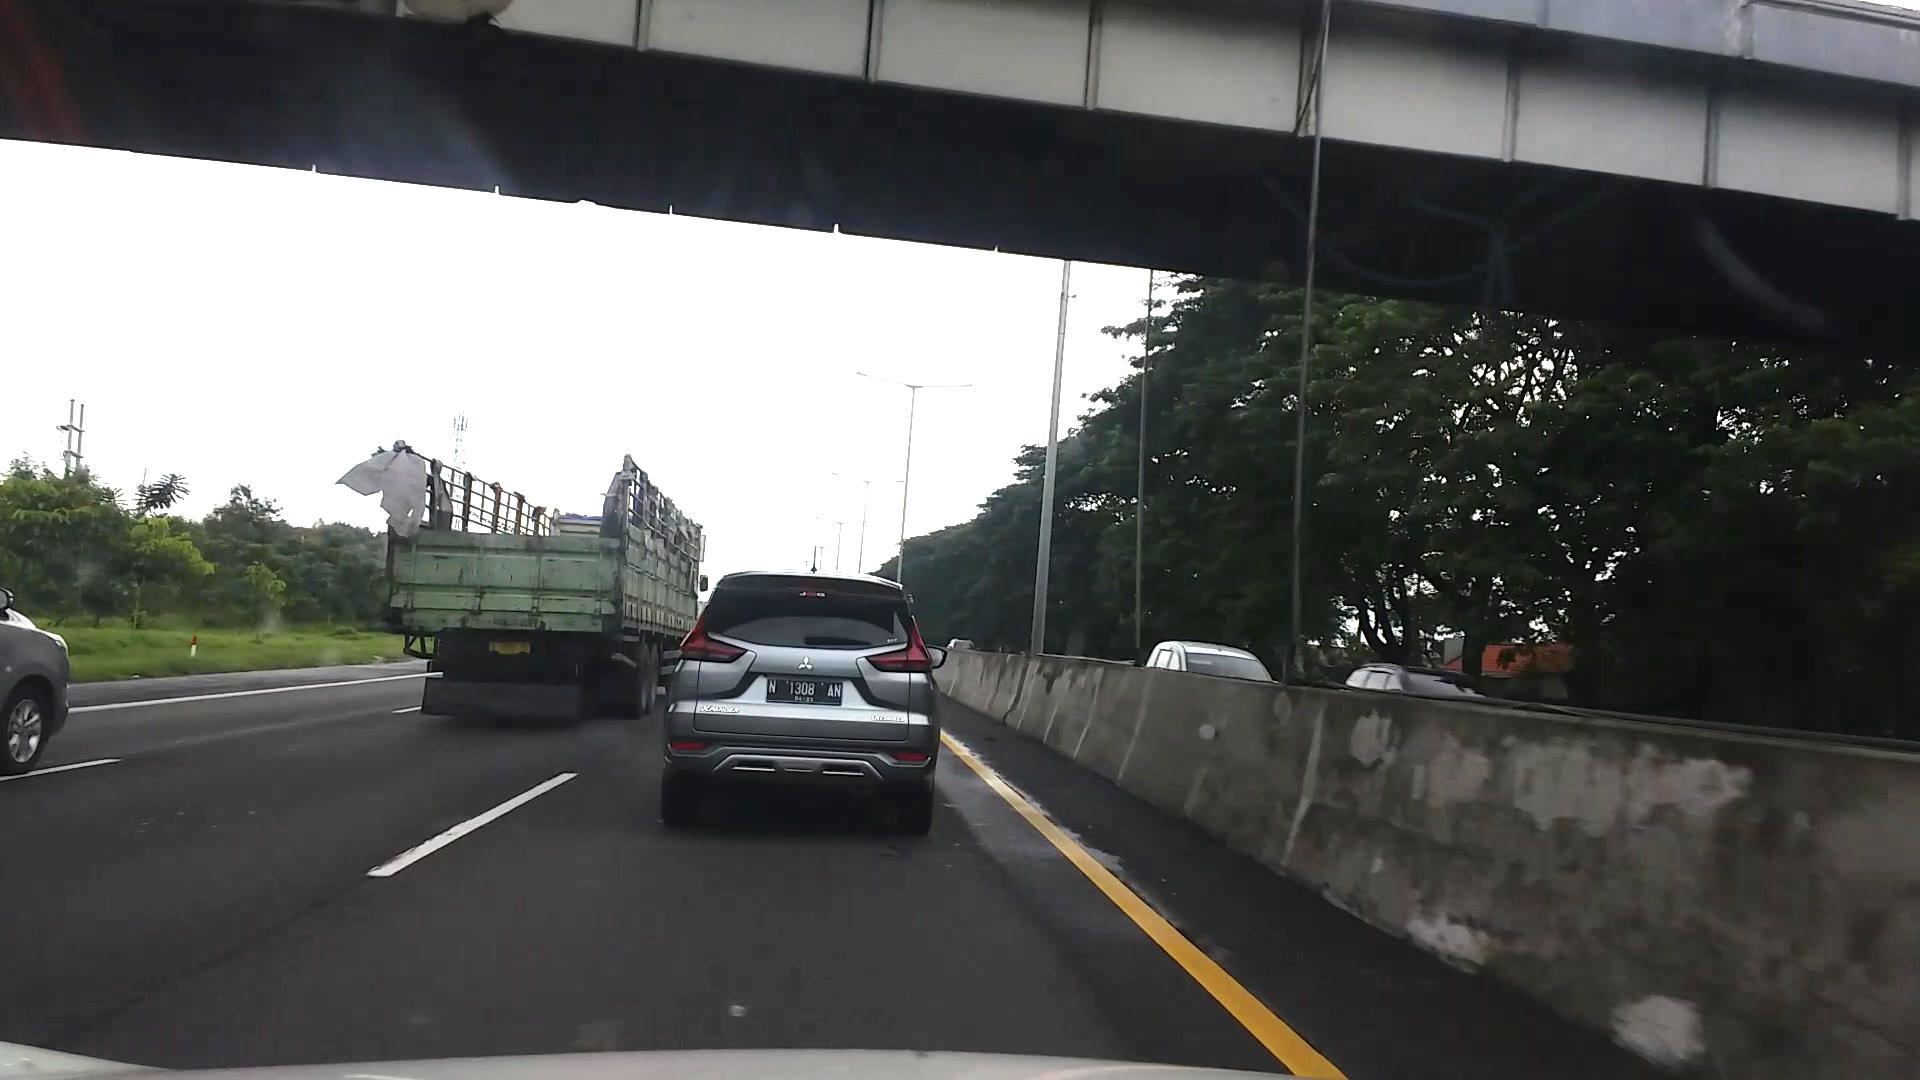plate_positive: (766, 679, 843, 705)
